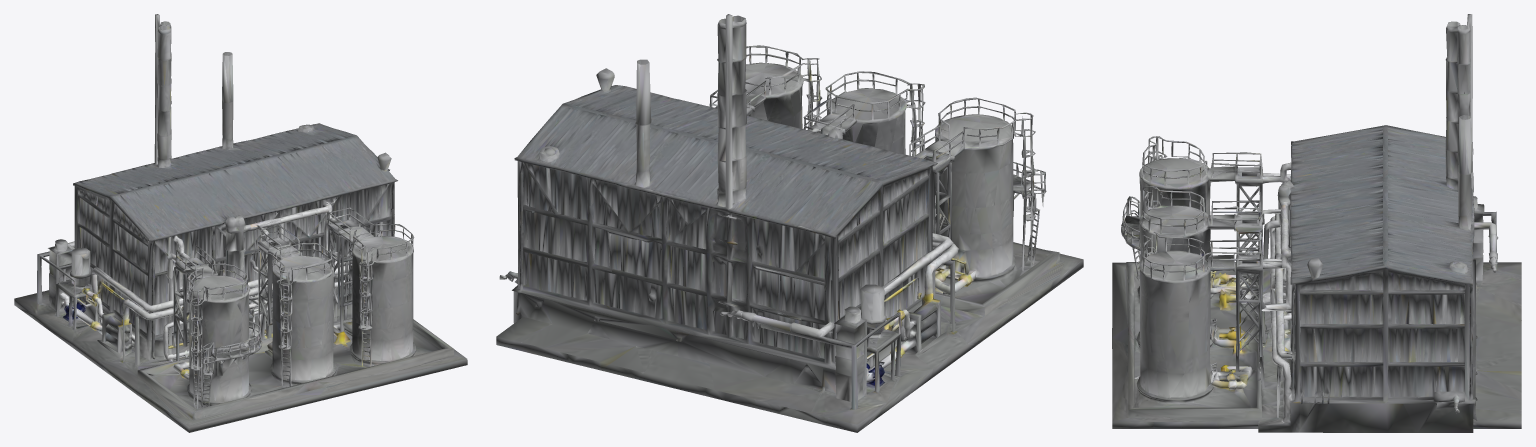
Rendered from seed-oil-refinery.glb.
3 views of the same model, side by side, from view 1: azimuth 30°, elevation 25°; view 2: azimuth 150°, elevation 25°; view 3: azimuth 270°, elevation 25° (orthographic). The views are drawn at different scales.
Visible parts, largest first — view 1: Mesh_0; view 2: Mesh_0; view 3: Mesh_0.
Boxes of the visible parts, x1,y1,x2,y2 form: Mesh_0: [14, 14, 467, 432]; Mesh_0: [496, 14, 1083, 432]; Mesh_0: [1112, 14, 1521, 432].
Bounding box in the file's own units: 12.6 × 11 × 12.61.
Materials: 1 (1 with a texture image).
